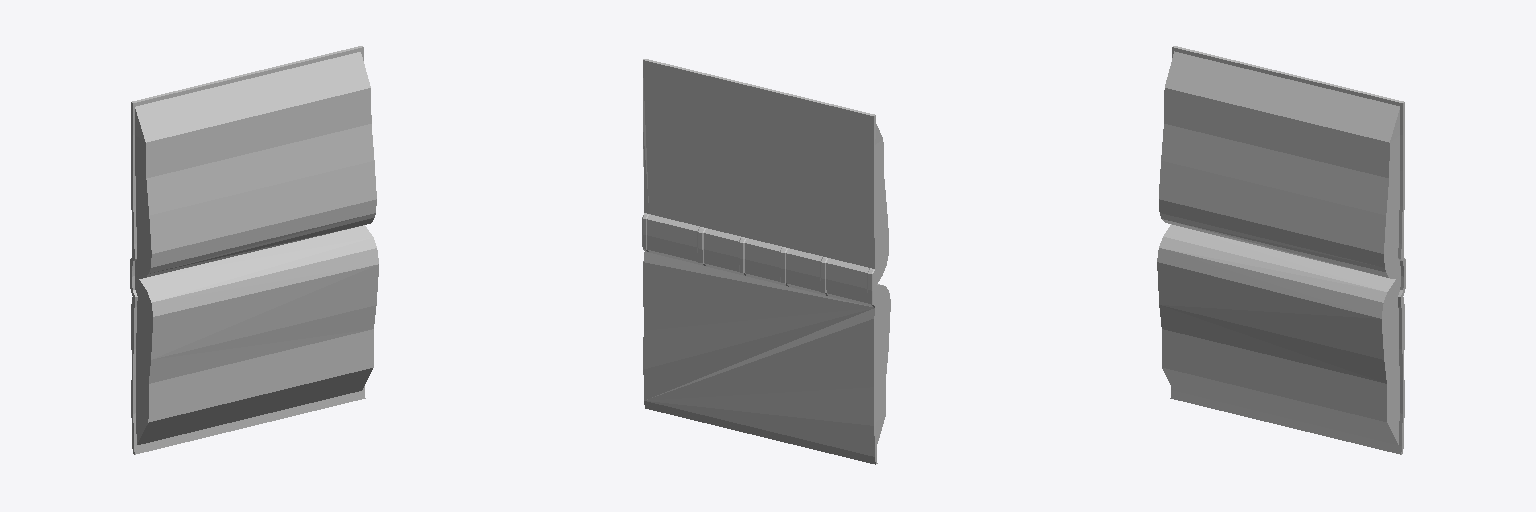
The model's file is open book.obj.
The picture shows the model from 3 angles: view 1: azimuth 30°, elevation 25°; view 2: azimuth 150°, elevation 25°; view 3: azimuth 330°, elevation 25°; orthographic projection.
Parts seen in each view (by area): view 1: Object.1; view 2: Object.1; view 3: Object.1.
Part boxes in pixels (left/top/right/bottom): Object.1: left=130, top=46, right=378, bottom=454; Object.1: left=642, top=59, right=890, bottom=464; Object.1: left=1157, top=46, right=1405, bottom=454.
Bounding box in the file's own units: 33737 × 48887 × 5529.